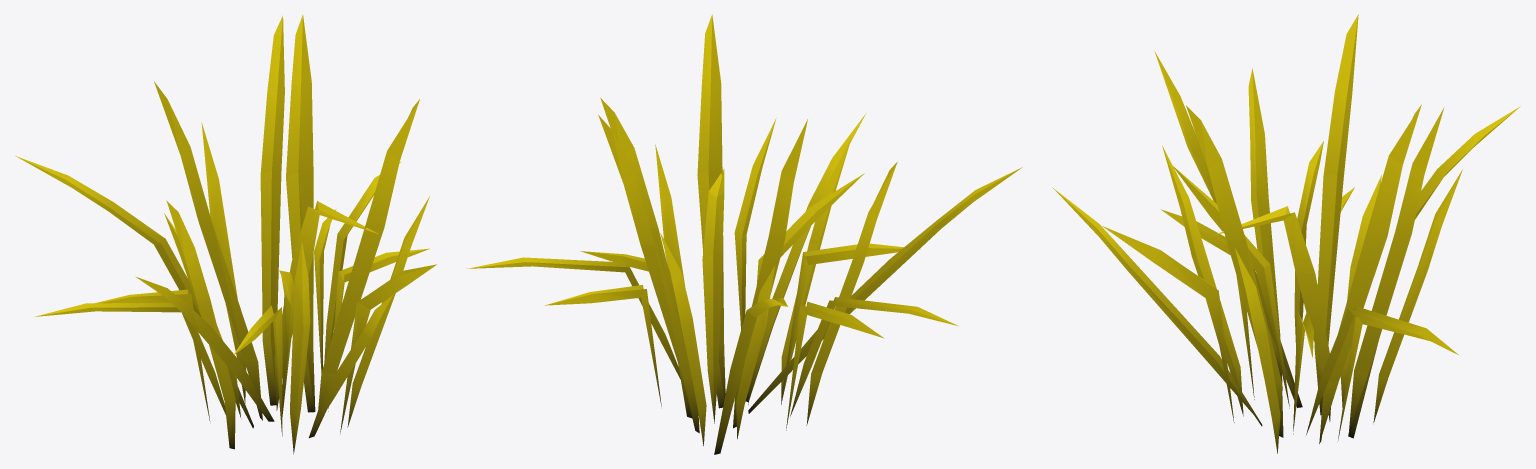
Rendered from Grass_Wispy_Short.glb.
The picture shows the model from 3 angles, left to right: view 1: azimuth 30°, elevation 25°; view 2: azimuth 150°, elevation 25°; view 3: azimuth 270°, elevation 25°; orthographic projection. The views are drawn at different scales.
Bounding box in the file's own units: 1.32 × 1.07 × 1.21.
1 material, 1 textured.
